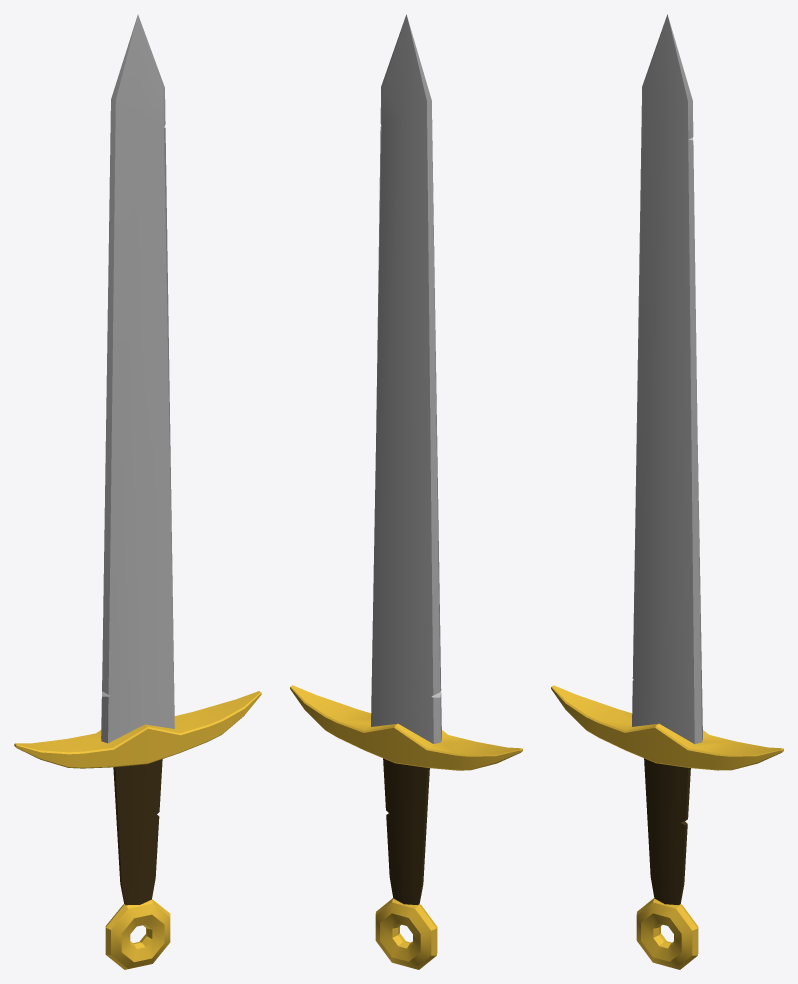
File: low_poly_sword.fbx
3 views of the same model, side by side, from view 1: azimuth 30°, elevation 25°; view 2: azimuth 150°, elevation 25°; view 3: azimuth 330°, elevation 25° (orthographic).
Visible parts, largest first — view 1: sword; view 2: sword; view 3: sword.
Part boxes in pixels (x1=…): sword: x1=14, y1=14, x2=261, y2=969; sword: x1=290, y1=14, x2=522, y2=969; sword: x1=551, y1=14, x2=783, y2=969.
Size of the model in its own units: 0.4107 by 1.57 by 0.0679.
